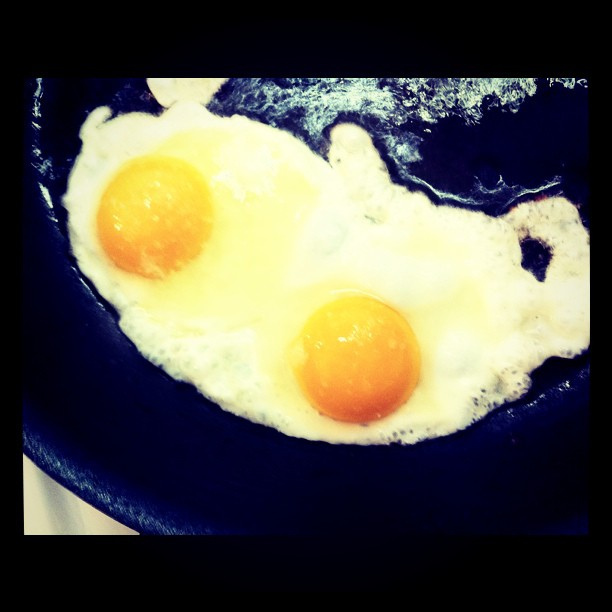fried egg: (259, 167, 508, 445), (73, 119, 309, 343)
